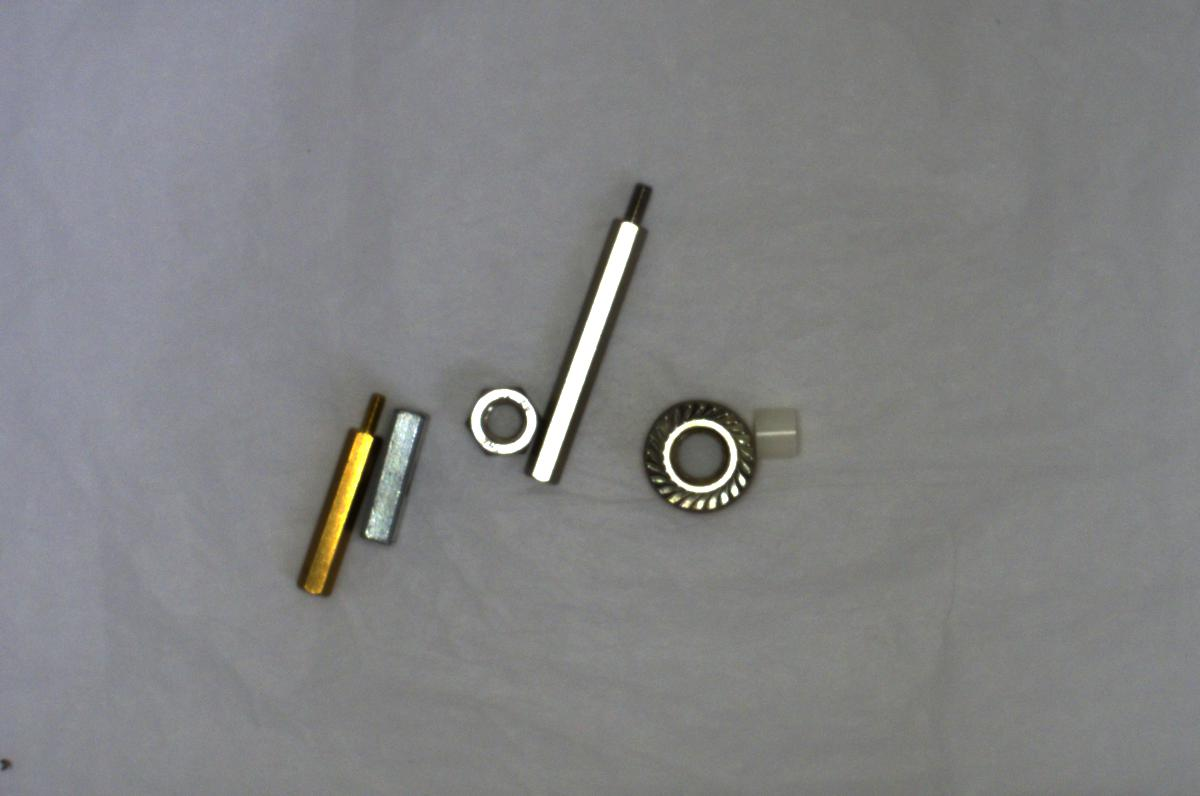Flange nut: (625, 393, 754, 523)
Hexagon nut: (455, 381, 542, 460)
Hexagon pillar: (288, 374, 382, 602)
Hexagonal steel column: (525, 174, 655, 488)
Plastic cushion pillar: (746, 400, 811, 465)
Rectangular nut: (358, 405, 428, 547)
